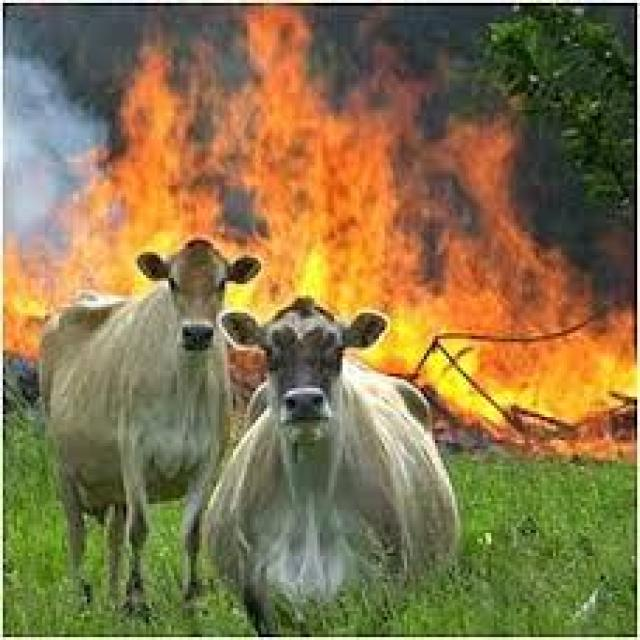Fire: (410, 113, 634, 428), (203, 2, 425, 316), (0, 44, 190, 341)
Smoke: (0, 46, 101, 226)
